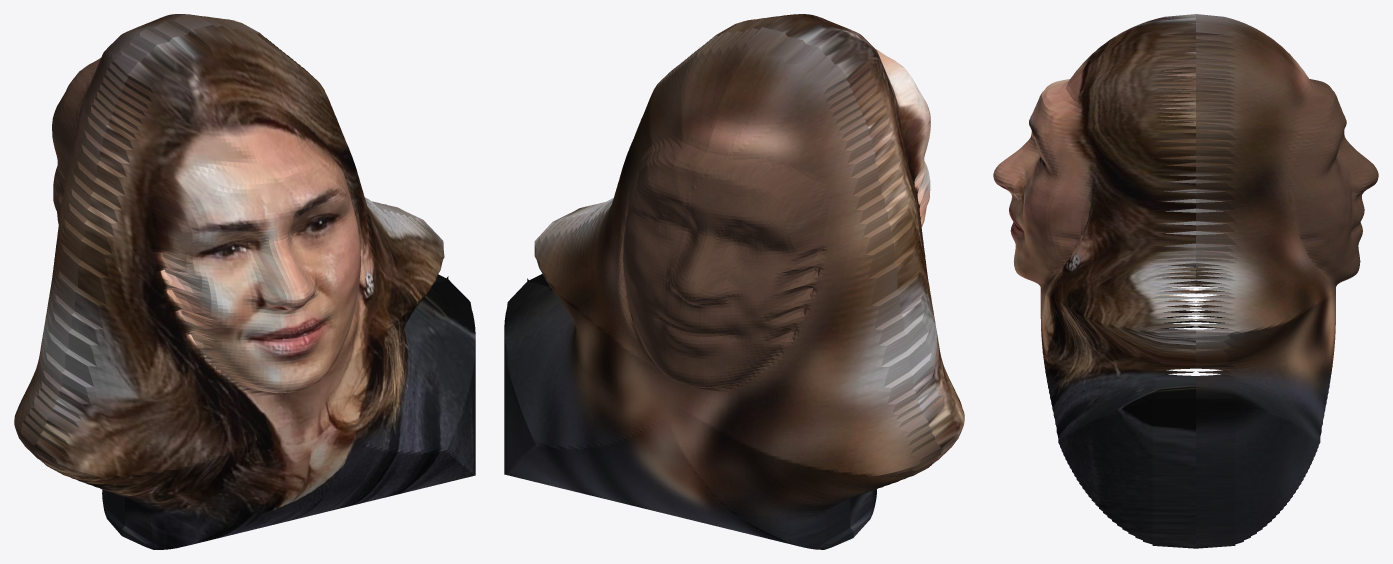
The picture shows the model from 3 angles, left to right: view 1: azimuth 30°, elevation 25°; view 2: azimuth 150°, elevation 25°; view 3: azimuth 270°, elevation 25°; orthographic projection. The views are drawn at different scales.
Visible parts, largest first — view 1: geometry_0; view 2: geometry_0; view 3: geometry_0.
Part boxes in pixels (x1,y1,x2,y2): geometry_0: [14, 14, 475, 549]; geometry_0: [504, 14, 964, 549]; geometry_0: [993, 14, 1378, 548].
Bounding box in the file's own units: 0.1846 × 0.2084 × 0.1735.
1 material, 1 textured.
